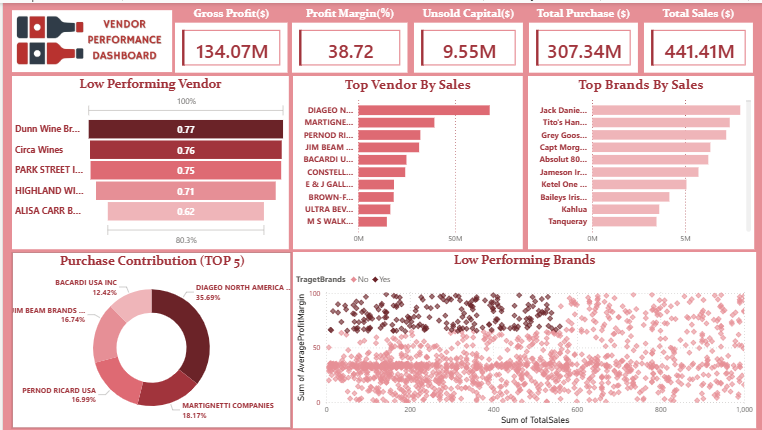

Layout of this report page (visuals, bound fields, positions):
{"tool":"powerbi","page":{"name":"Page 1","canvas":[1280,720],"ordinal":0},"visuals":[{"type":"cardVisual","title":"Total Sales ($)","fields":{"Data":["Sum(vendor_sales_summary.TotalSalesAmount)"]},"box":[1071.7,5,193.2,117.6],"z":0},{"type":"cardVisual","title":"Total Purchase ($)","fields":{"Data":["Sum(vendor_sales_summary.TotalPurchaseAmount)"]},"box":[878.5,5,193.2,117.6],"z":1000},{"type":"cardVisual","title":"Gross Profit($)","fields":{"Data":["Sum(vendor_sales_summary.GrossProfit)"]},"box":[283.9,5,199.9,117.6],"z":2000},{"type":"cardVisual","title":"Profit Margin(%)","fields":{"Data":["Avg(vendor_sales_summary.ProfitMargin)"]},"box":[480.4,5,204.9,117.6],"z":3000},{"type":"cardVisual","title":"Unsold Capital($)","fields":{"Data":["Sum(vendor_sales_summary.UnsoldInventoryValue)"]},"box":[685.4,5,193.2,117.6],"z":4000},{"type":"image","box":[15.1,5,268.8,117.6],"z":5000},{"type":"donutChart","title":"Purchase Contribution (TOP 10)","fields":{"Y":["Sum(PurchaseContribution.PurchaseContribution%)"],"Category":["PurchaseContribution.VendorName"]},"box":[15.1,418.3,468.7,295.6],"z":6000},{"type":"funnel","title":"Low Performing Vendor","fields":{"Category":["LowTurnoverVendor.VendorName"],"Y":["Avg(LowTurnoverVendor.AverageStockTurnover)"]},"box":[15.1,122.6,465.3,290.6],"z":7000},{"type":"barChart","title":"Top Vendor By Sales","fields":{"Category":["vendor_sales_summary.VendorName"],"Y":["Sum(vendor_sales_summary.TotalSalesAmount)"]},"box":[487.1,122.6,386.4,290.6],"z":8000},{"type":"barChart","title":"Top Brands By Sales","fields":{"Y":["Sum(vendor_sales_summary.TotalSalesAmount)"],"Category":["vendor_sales_summary.Description"]},"box":[881.9,122.6,379.6,290.6],"z":9000},{"type":"scatterChart","title":"Low Performing Brands","fields":{"Category":["BrandPerformance.Description"],"X":["Sum(BrandPerformance.TotalSales)"],"Y":["Sum(BrandPerformance.AverageProfitMargin)"],"Series":["BrandPerformance.TragetBrands"]},"box":[487.1,418.3,777.7,295.6],"z":10000}]}

Visuals, with their boxes in screenshot pixels (x1, y1, x2, y2), scaled from the page's 1280x720 canvas onto the 762x430 screenshot:
"Total Sales ($)" cardVisual: [638,3,753,73]
"Total Purchase ($)" cardVisual: [523,3,638,73]
"Gross Profit($)" cardVisual: [169,3,288,73]
"Profit Margin(%)" cardVisual: [286,3,408,73]
"Unsold Capital($)" cardVisual: [408,3,523,73]
image: [9,3,169,73]
"Purchase Contribution (TOP 10)" donutChart: [9,250,288,426]
"Low Performing Vendor" funnel: [9,73,286,247]
"Top Vendor By Sales" barChart: [290,73,520,247]
"Top Brands By Sales" barChart: [525,73,751,247]
"Low Performing Brands" scatterChart: [290,250,753,426]
